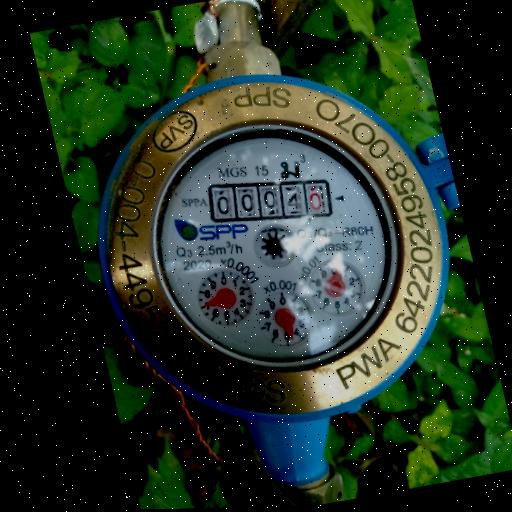0: (302, 182, 329, 214), (234, 185, 259, 218), (209, 187, 234, 218), (257, 184, 281, 216)
4: (280, 184, 306, 216)
border_water_meter_number: (200, 162, 338, 237)
